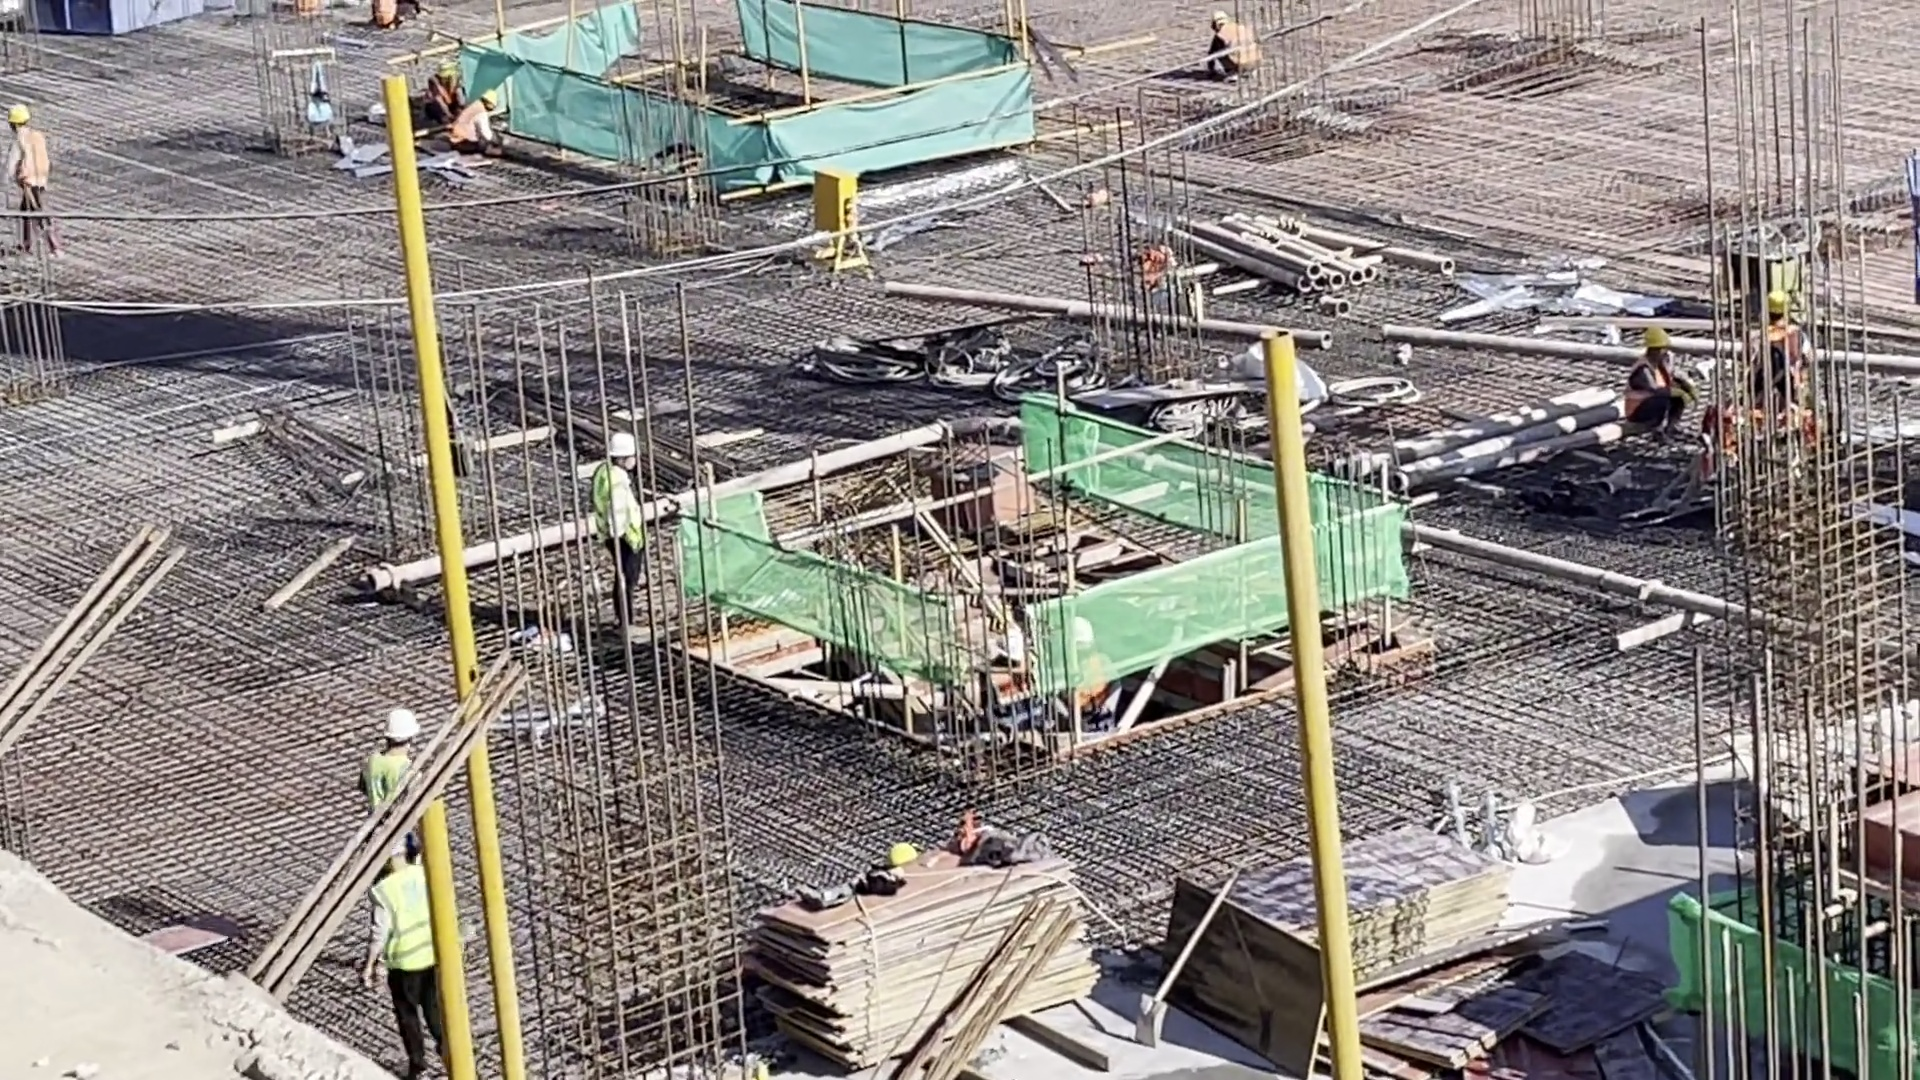board: (1171, 819, 1515, 1049), (753, 851, 1108, 1058)
ebox: (805, 169, 881, 292)
helmet: (381, 706, 419, 738), (617, 436, 652, 470), (887, 839, 917, 870), (1645, 317, 1672, 341), (6, 101, 34, 122), (482, 89, 507, 110)
person: (367, 843, 449, 1075), (594, 424, 652, 625), (1618, 310, 1706, 434), (349, 704, 429, 840), (1, 96, 61, 260), (1063, 614, 1125, 727), (984, 631, 1046, 728), (1204, 11, 1269, 79), (443, 89, 509, 153), (412, 57, 457, 120), (365, 1, 425, 38)
vest: (380, 866, 423, 984), (357, 760, 420, 837), (597, 463, 644, 555), (7, 123, 50, 194), (1630, 355, 1676, 419), (1220, 28, 1265, 71)
